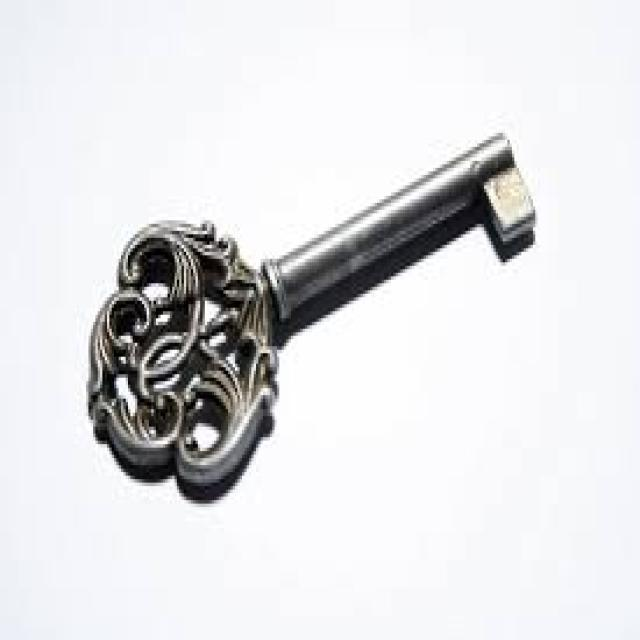key: (58, 127, 567, 578)
